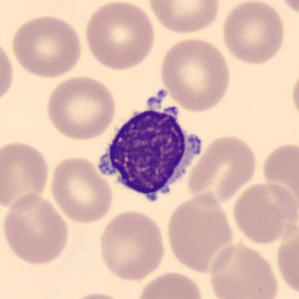Lymphocyte: (91, 96, 207, 210)
RBC: (163, 191, 236, 273), (158, 35, 234, 113), (186, 132, 260, 206), (96, 208, 168, 283), (0, 192, 71, 267), (82, 0, 157, 71), (43, 73, 119, 142), (9, 13, 85, 80), (48, 154, 115, 225), (219, 0, 287, 67), (206, 239, 281, 299), (230, 179, 295, 246), (0, 138, 51, 212), (259, 138, 299, 221), (146, 0, 223, 36), (136, 269, 206, 299), (273, 223, 298, 297), (0, 35, 16, 107), (62, 289, 132, 299), (288, 64, 299, 124), (274, 0, 299, 18)
